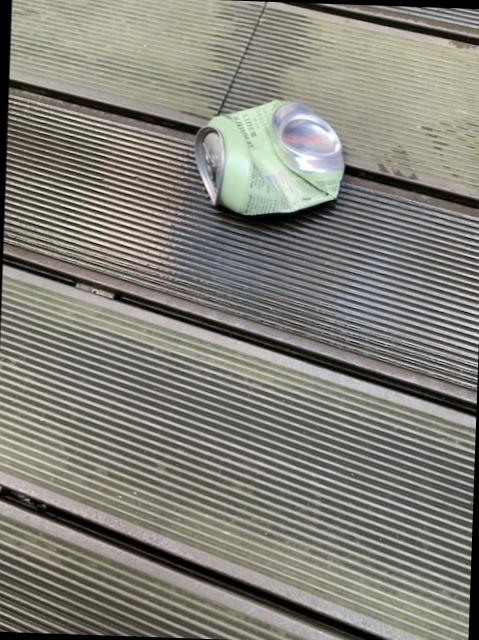metal: (196, 98, 344, 213)
